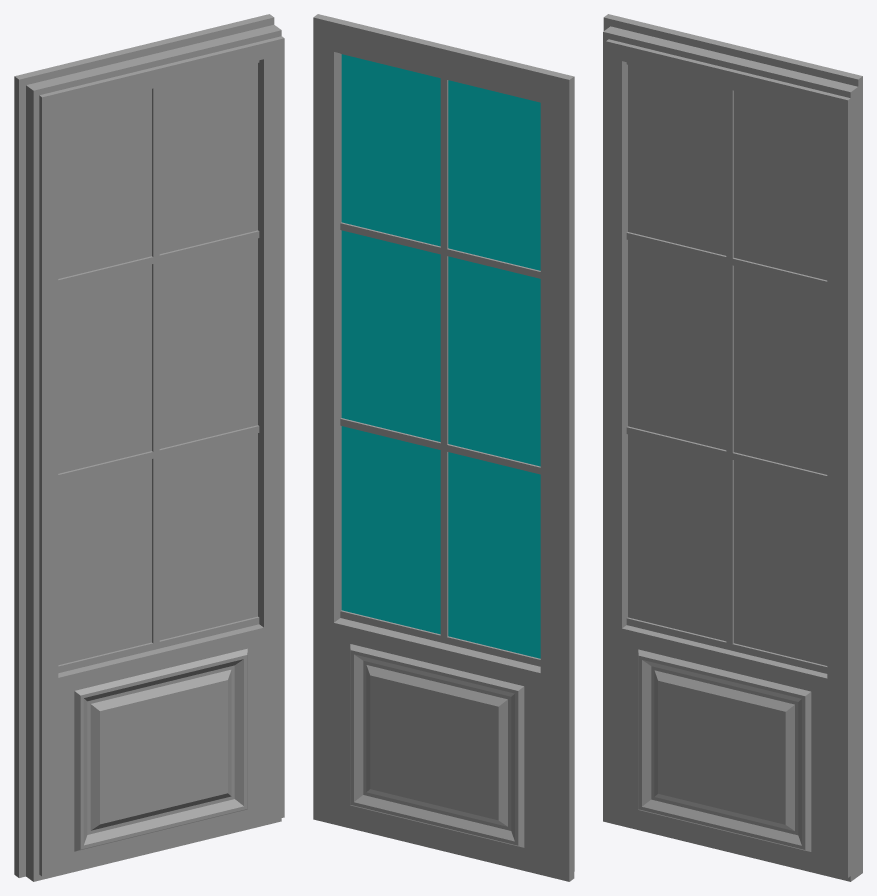
The model's file is Mesh_Door_04_Right.FBX.
3 views of the same model, side by side, from view 1: azimuth 30°, elevation 25°; view 2: azimuth 150°, elevation 25°; view 3: azimuth 330°, elevation 25° (orthographic).
Parts seen in each view (by area): view 1: Mesh_Door_04_Right; view 2: Mesh_Door_04_Right; view 3: Mesh_Door_04_Right.
Part boxes in pixels (box(x1,y1,x2,y2)): Mesh_Door_04_Right: box(14, 14, 284, 881); Mesh_Door_04_Right: box(313, 14, 574, 881); Mesh_Door_04_Right: box(603, 14, 862, 881).
Size of the model in its own units: 0.786 by 2.35 by 0.11.
